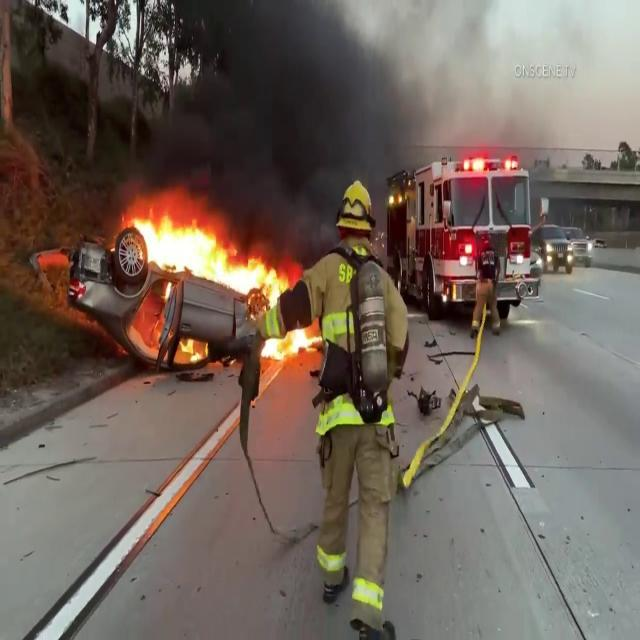Fire: (120, 203, 290, 291), (266, 321, 318, 363), (176, 334, 212, 369)
Smoke: (136, 1, 407, 222)
